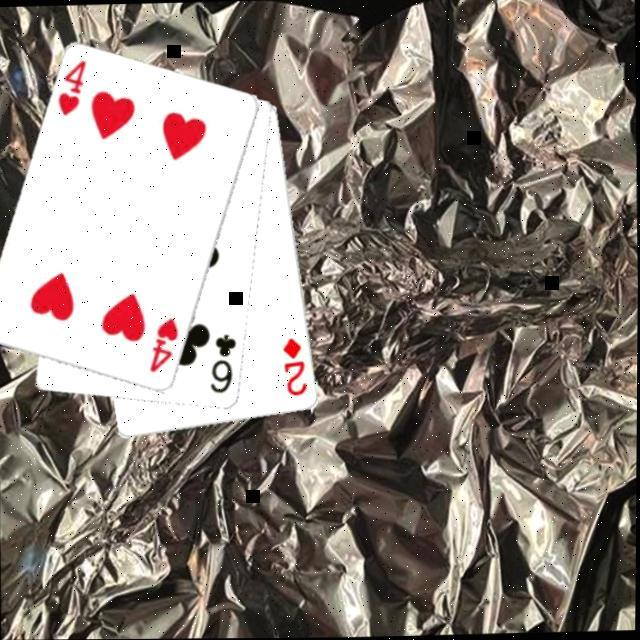2D: (279, 336, 310, 400)
4H: (53, 58, 89, 120), (146, 316, 182, 376)
6C: (206, 332, 240, 397)
